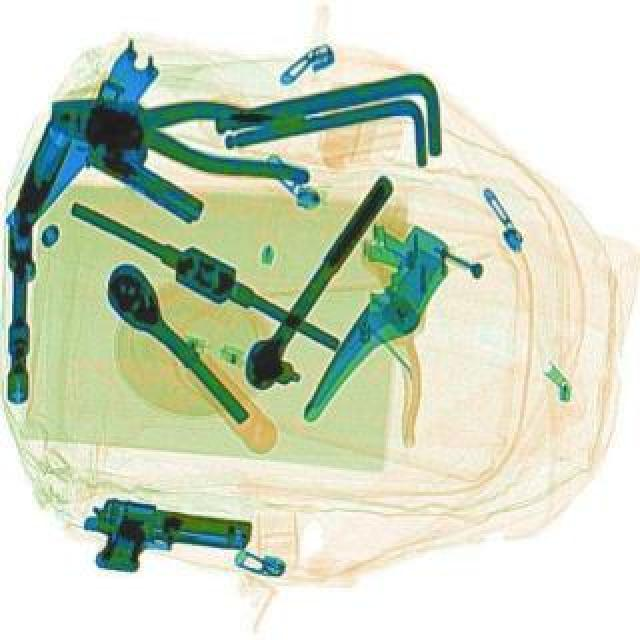gun: (74, 492, 254, 584)
wrench: (44, 76, 318, 184)
